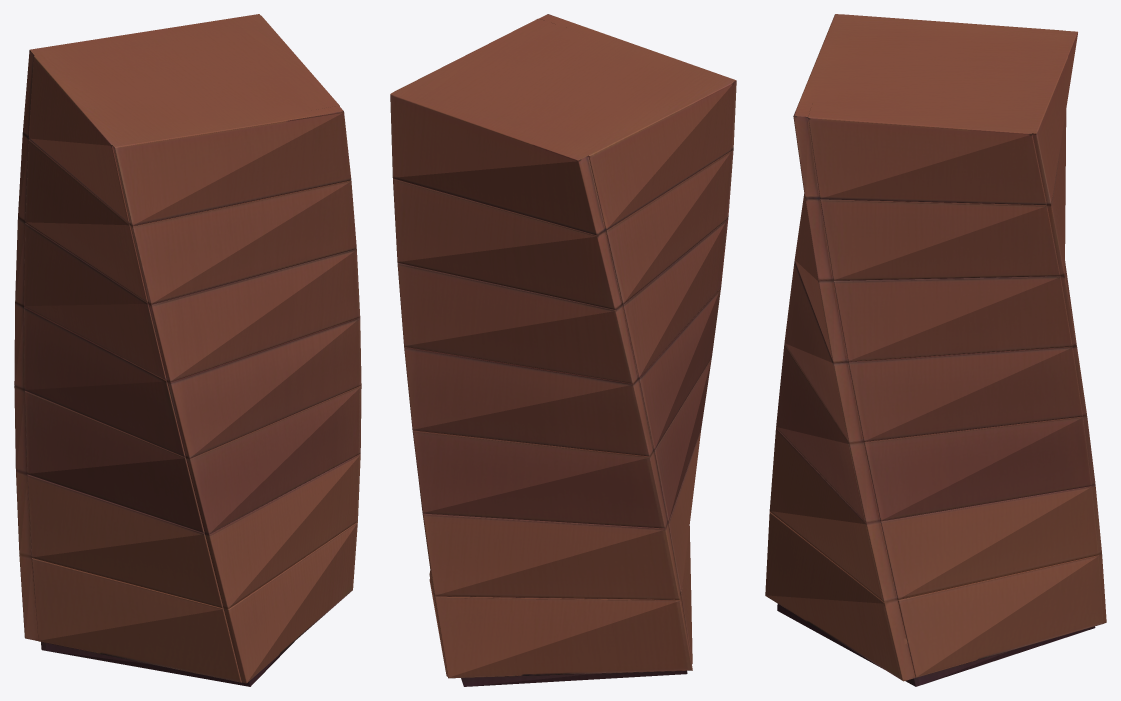
Rendered from edited_mesh.glb.
3 renders of one model, left to right at view 1: azimuth 30°, elevation 25°; view 2: azimuth 150°, elevation 25°; view 3: azimuth 270°, elevation 25°, orthographic.
Parts seen in each view (by area): view 1: normalized_model.obj; view 2: normalized_model.obj; view 3: normalized_model.obj.
Part boxes in pixels (x1,y1,x2,y2): normalized_model.obj: (14,14,361,686); normalized_model.obj: (390,14,736,686); normalized_model.obj: (765,14,1106,686).
Size of the model in its own units: 0.8834 by 1.56 by 0.8848.
1 material, 1 textured.
